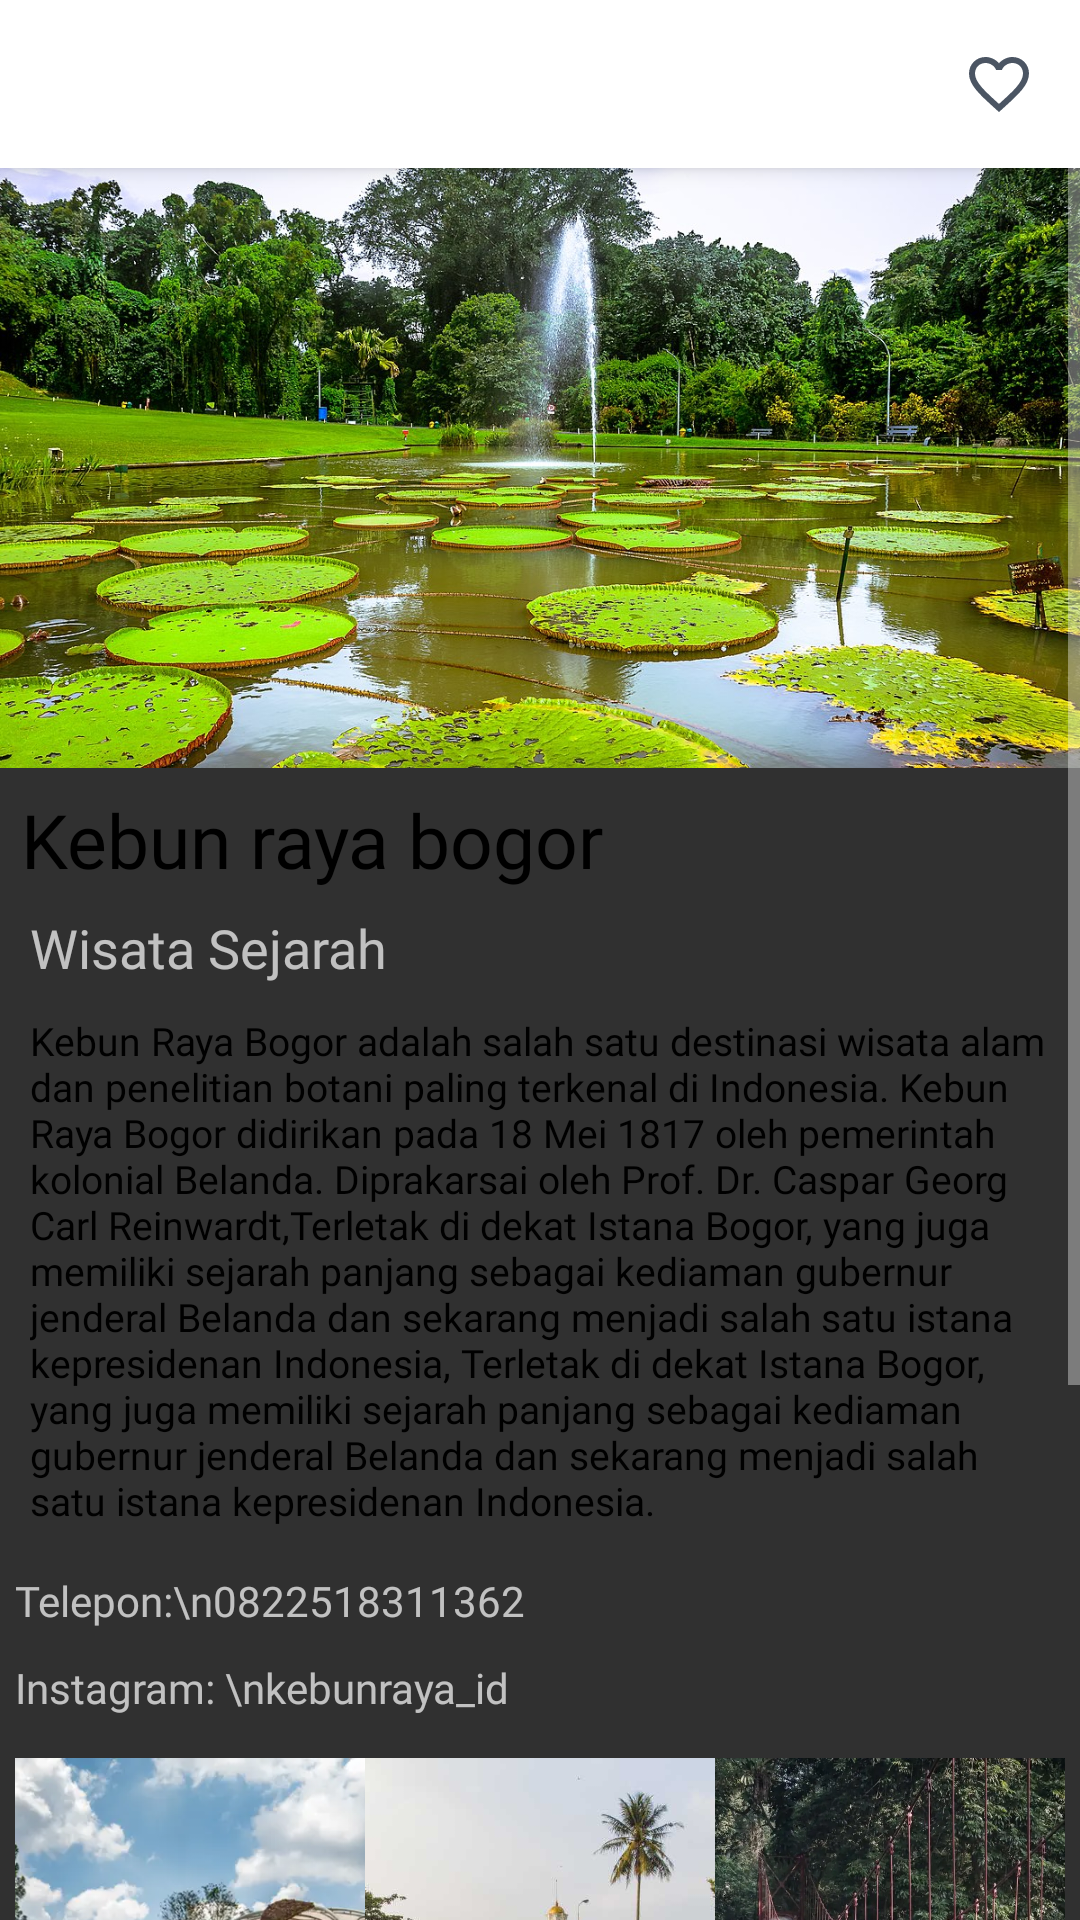

Icons on this 1080px×1920px Android screen, each with its box as (x1, y1, x2, y2):
heart: (969, 57, 1029, 112)
